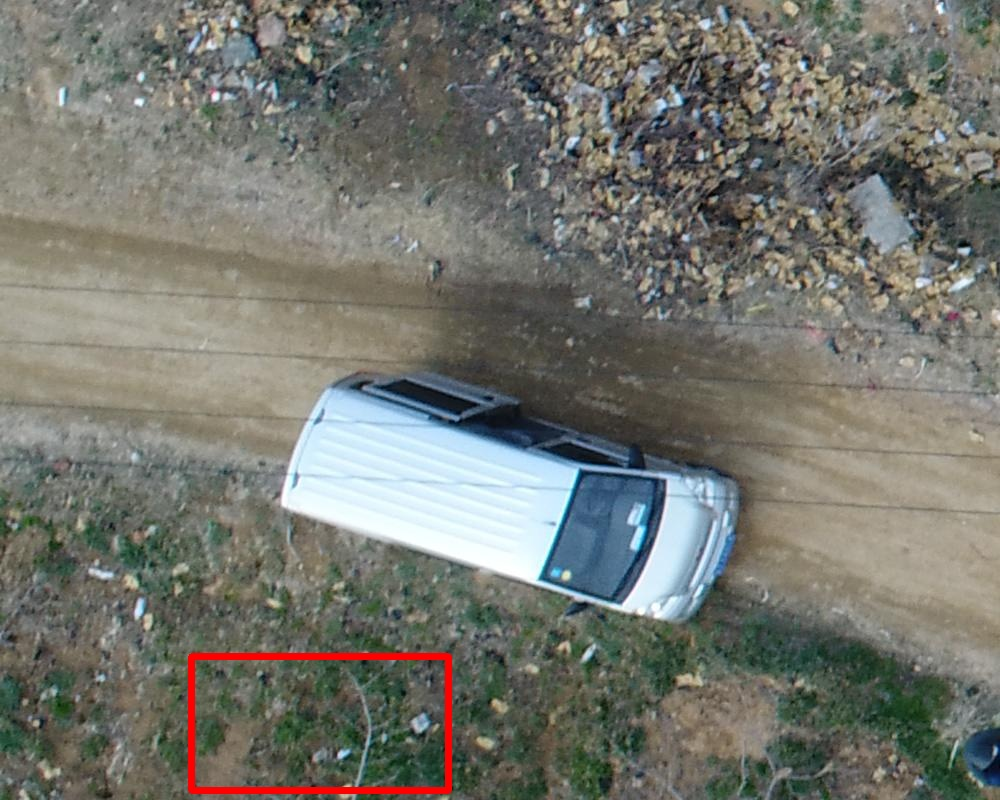apple: (191, 656, 448, 790)
